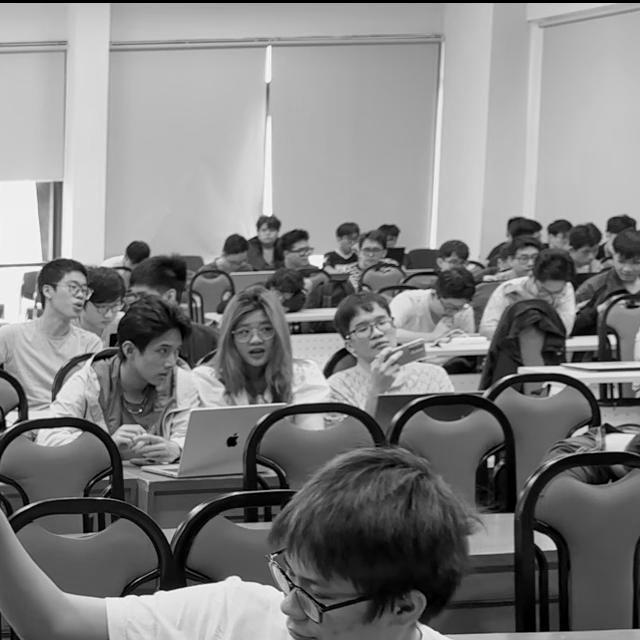Looking away: (270, 536, 365, 640), (124, 323, 186, 388), (50, 264, 91, 324), (532, 275, 569, 309), (612, 252, 639, 286), (287, 234, 311, 272)
Looking forward: (231, 306, 276, 370), (513, 243, 540, 280), (358, 236, 385, 272)
Phone use: (325, 294, 438, 407)
Reading-writing: (399, 264, 482, 342)
